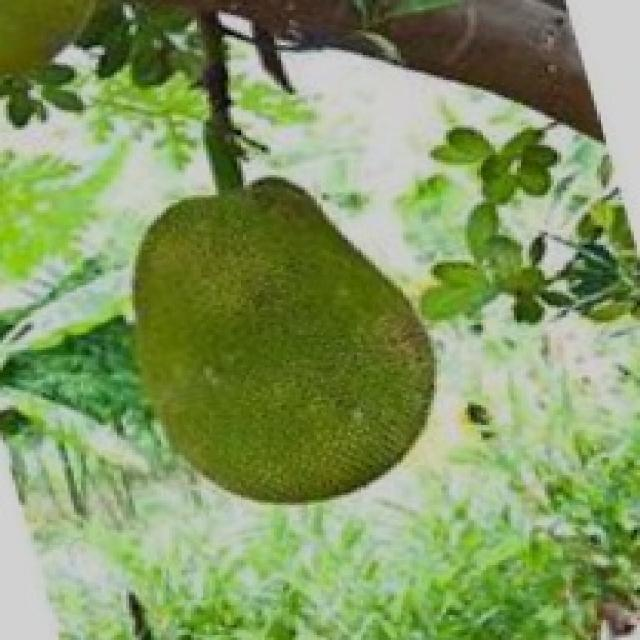Fruit: (95, 150, 471, 535), (0, 0, 129, 112)
